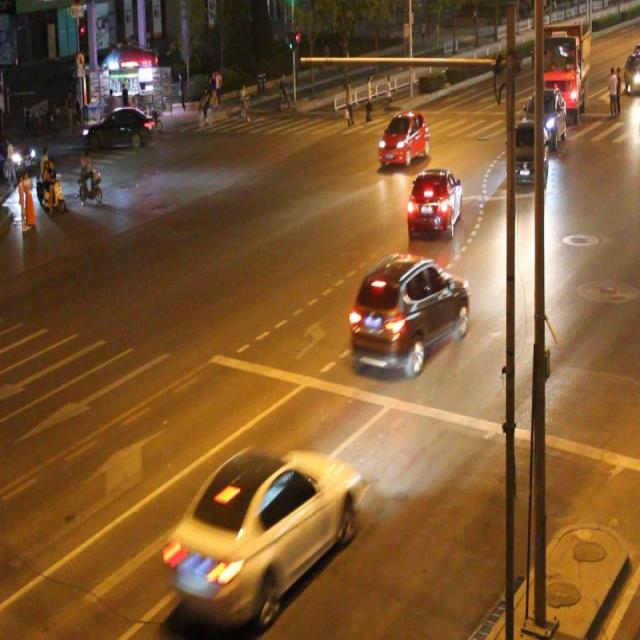car: (164, 443, 357, 613), (350, 252, 466, 370), (405, 163, 462, 238), (378, 110, 428, 164), (508, 119, 546, 184)
